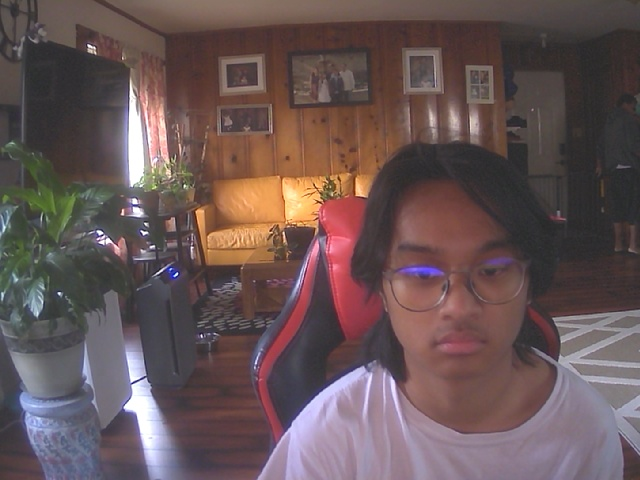neutral: (376, 147, 547, 385)
